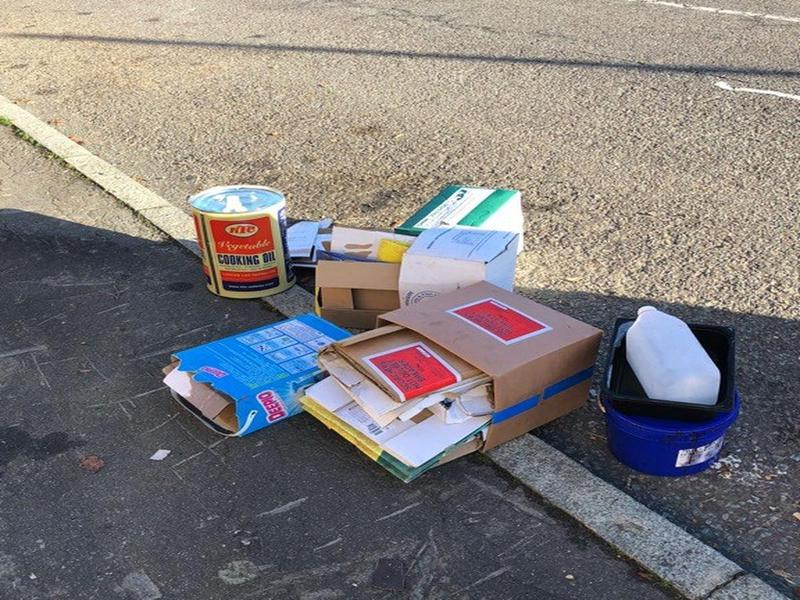bottle: (621, 304, 725, 404)
can: (181, 183, 304, 300)
cardboard: (299, 281, 607, 486), (166, 312, 357, 440), (393, 224, 527, 304), (310, 224, 401, 306), (397, 184, 528, 235)
